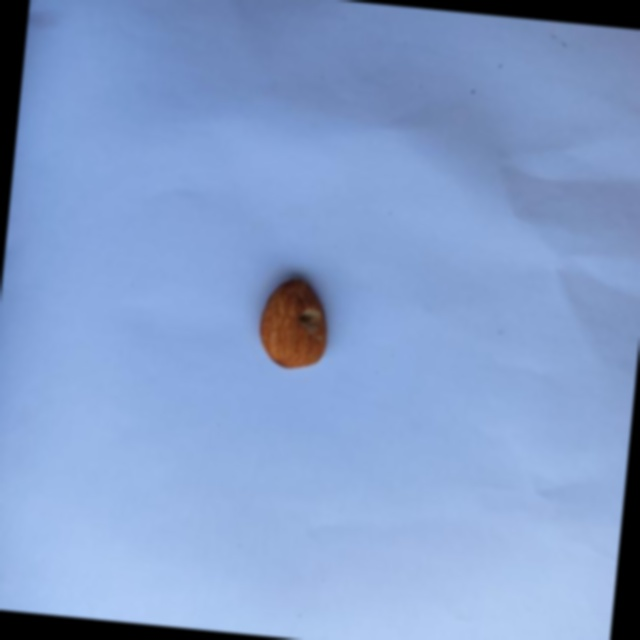grade3: (254, 271, 338, 376)
